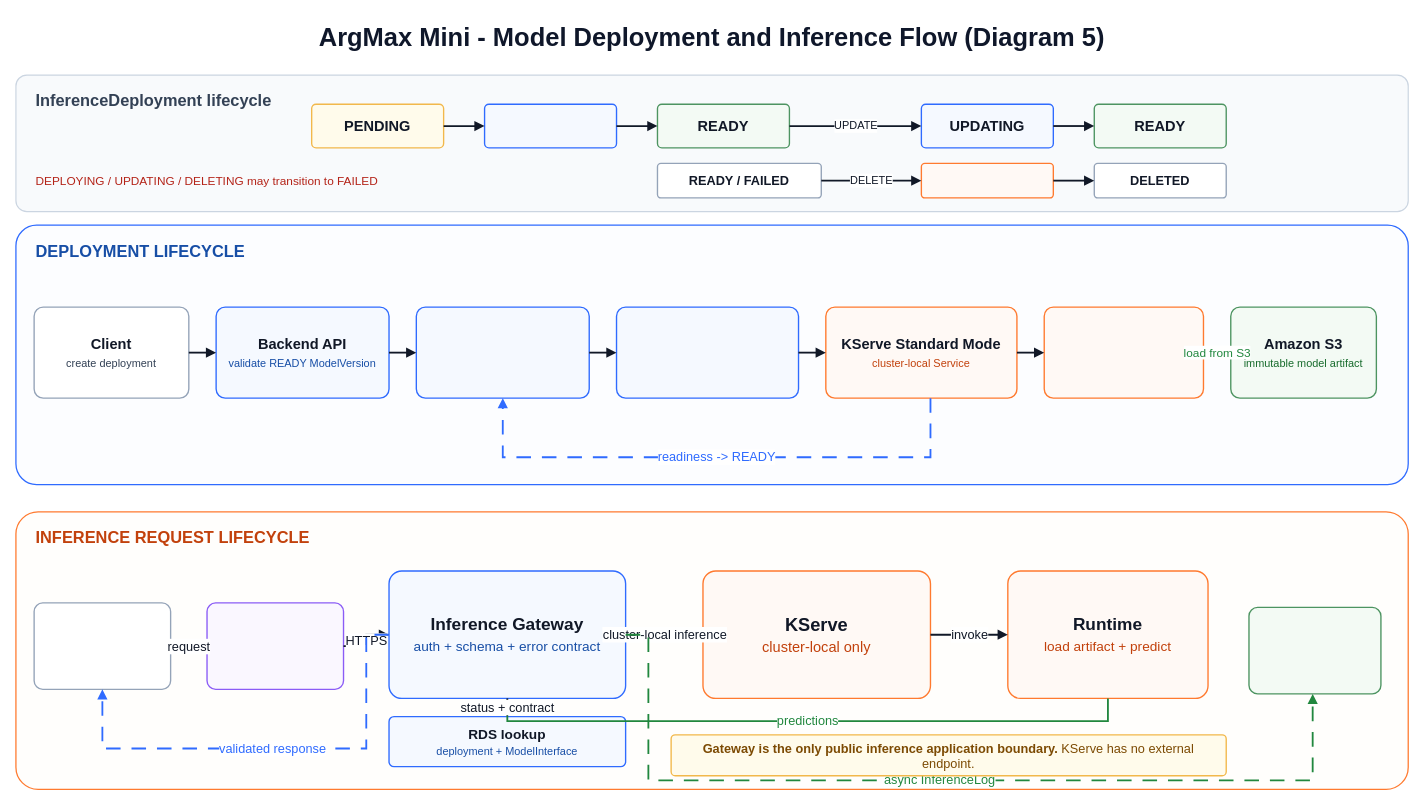
Some shapes in this 1425 by 805 pixel diagram are drawn without their labels. The box of each missing label's shape, as (x1, y1, x2, y2) in pixels:
ALB public ingress: (206, 602, 344, 690)
Amazon S3 async InferenceLog: (1248, 606, 1381, 694)
Client HTTPS: (33, 602, 171, 690)
DELETING: (920, 162, 1054, 198)
DEPLOYING: (483, 103, 617, 148)
Deployment Controller reconcile desired / actual: (615, 306, 799, 398)
Model Runtime CPU XGBoost: (1043, 306, 1204, 398)
RDS PostgreSQL desired state = PENDING: (415, 306, 589, 398)
